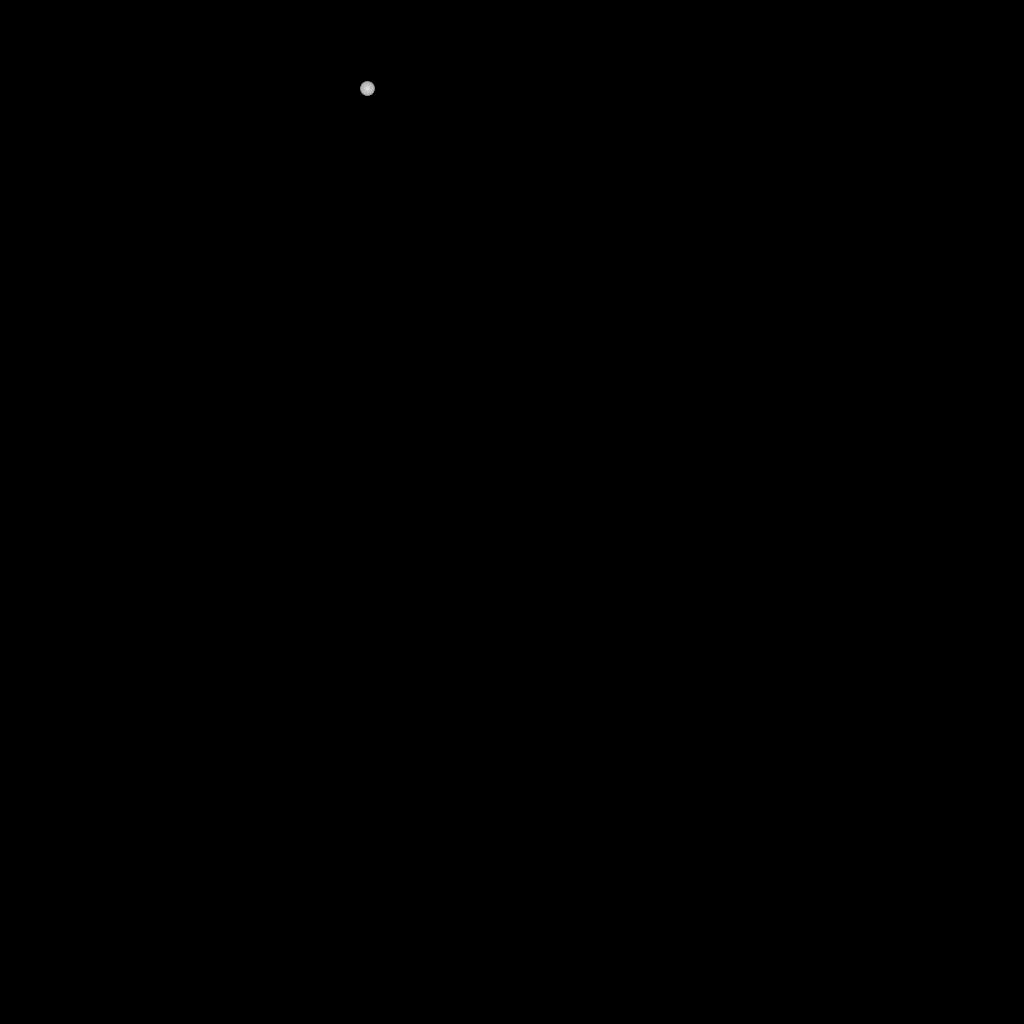depth:-30: (360, 82, 374, 96)
